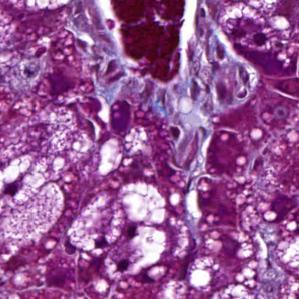ballooning: (67, 180, 171, 282)
